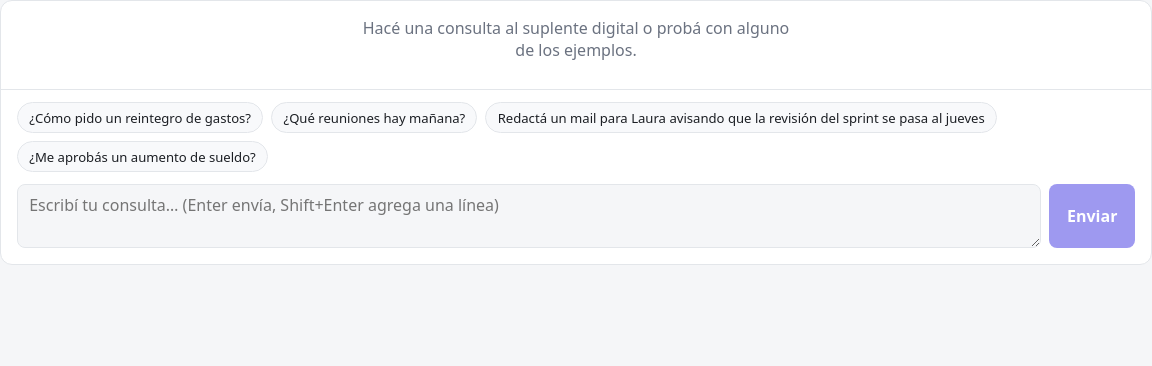
Test: Chat › FRONT-CHAT-05 disables sending and shows loading text while a request is pending
This screenshot has width=1152, height=366.
Type "Hola" into the text box labelled "consulta" at (529, 216), box [17,184,1041,248]
Then press Enter
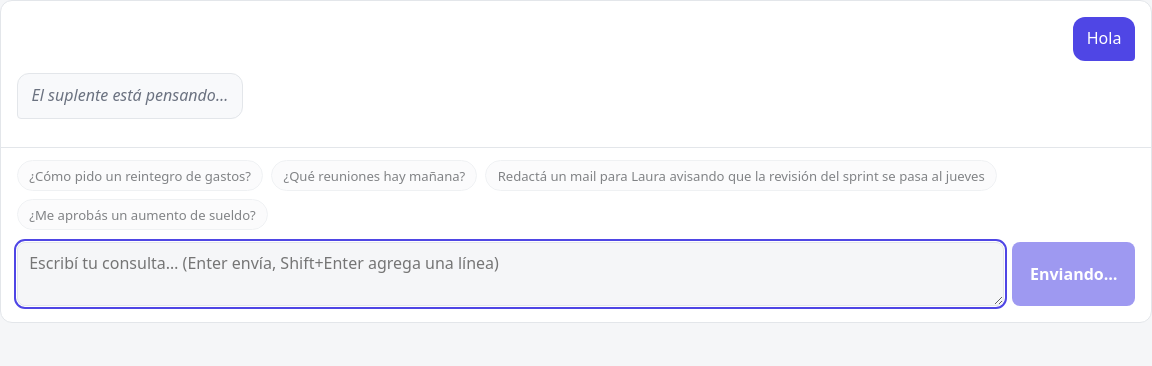
Expected: the button "Enviando…" is disabled, [1012,242,1135,306]
Now the text "El suplente está pensando…" is shown, box [17,73,243,119]
Now the button "¿Qué reuniones hay mañana?" is disabled, box [271,160,478,191]
Type "Otra" into the text box labelled "consulta" at (511, 274), box [17,242,1004,306]
Then press Enter
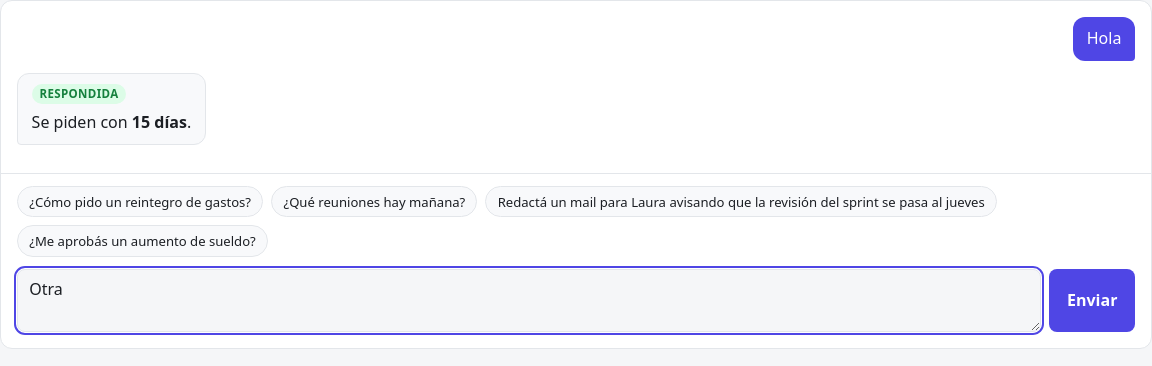
Now the text "15 días" is shown, box [132,111,187,133]
Now the text "El suplente está pensando…" is gone
